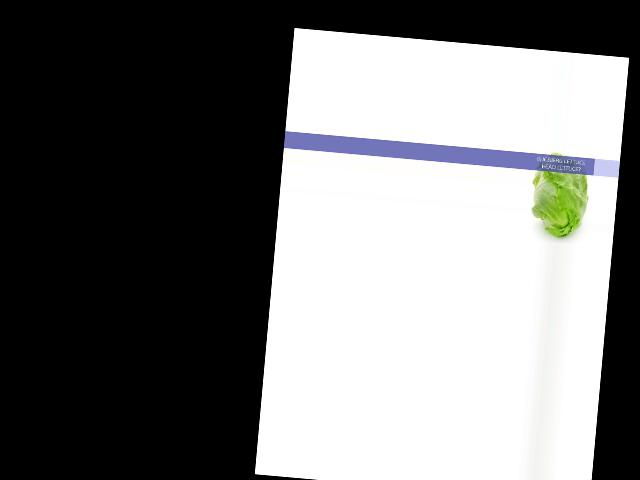lettuce: (527, 150, 589, 243)
